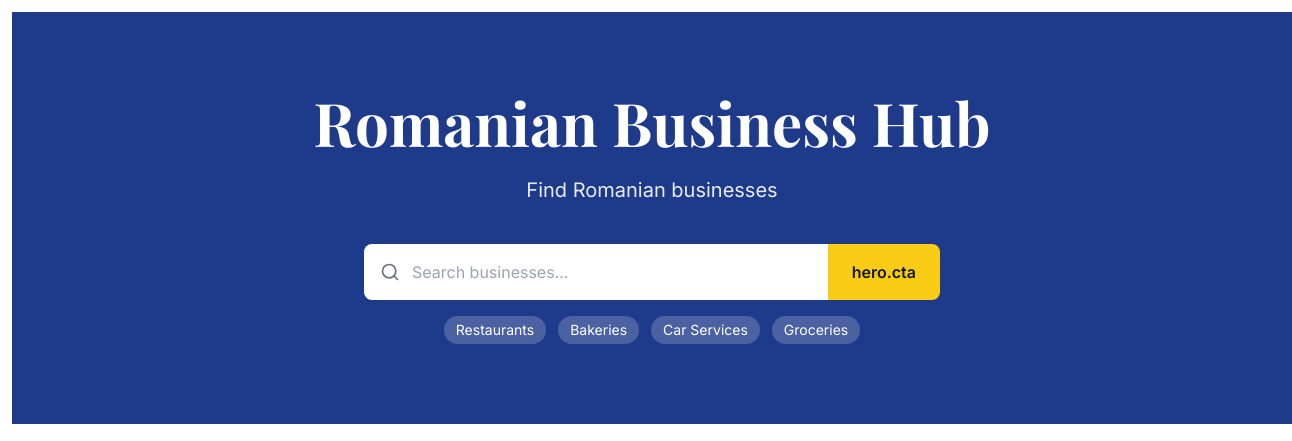
Test case: HeroSection search form › navigates to /search?q= on submit
The width and height of the screenshot is (1292, 441).
Step 1. Type "pizza" into the search field labelled "Search businesses…" → (596, 272), box [364,244,828,300]
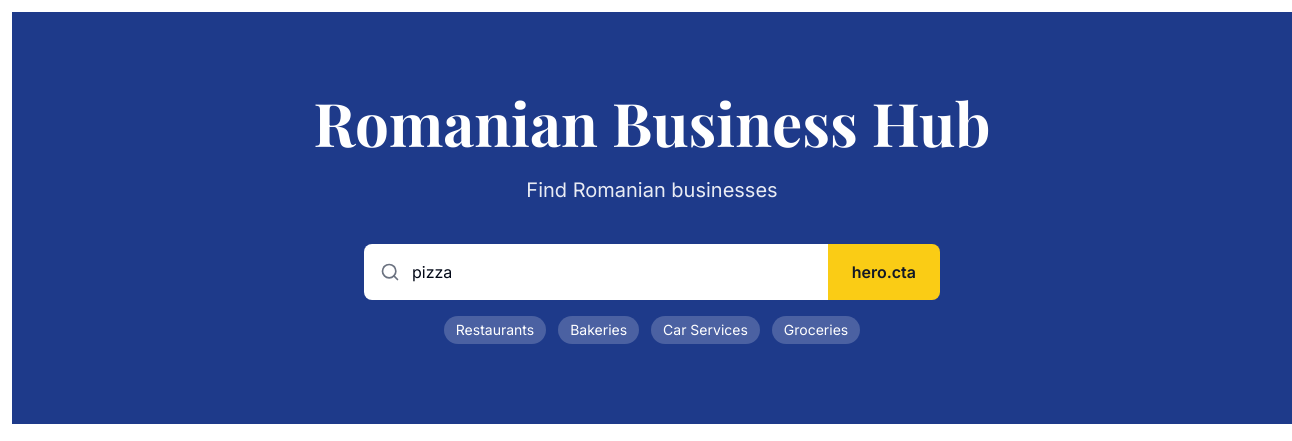
Step 2. Submit the form named "search businesses", box [364,244,940,300]
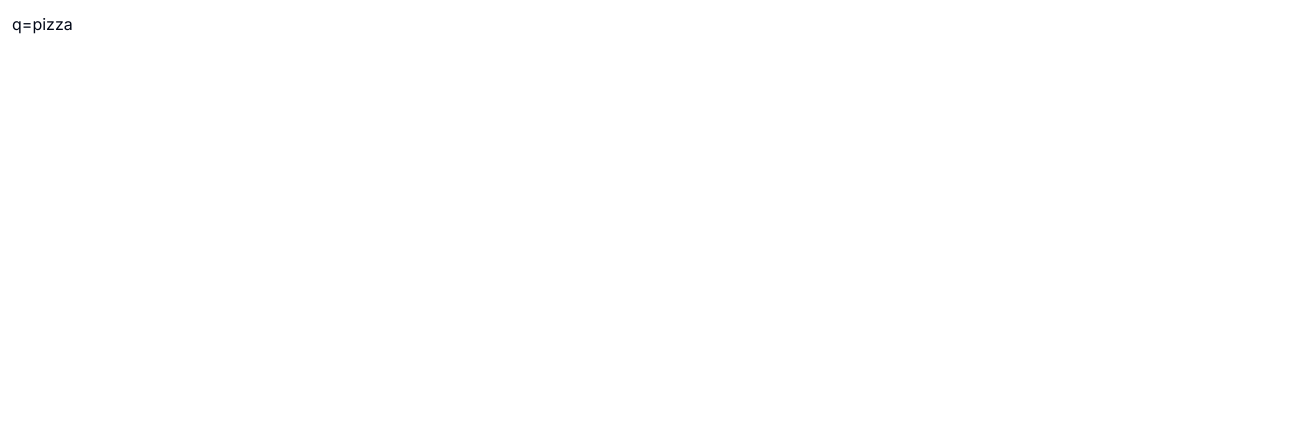
expect the text with test id "search-page" reads "q=pizza": met, box [12,14,73,34]
